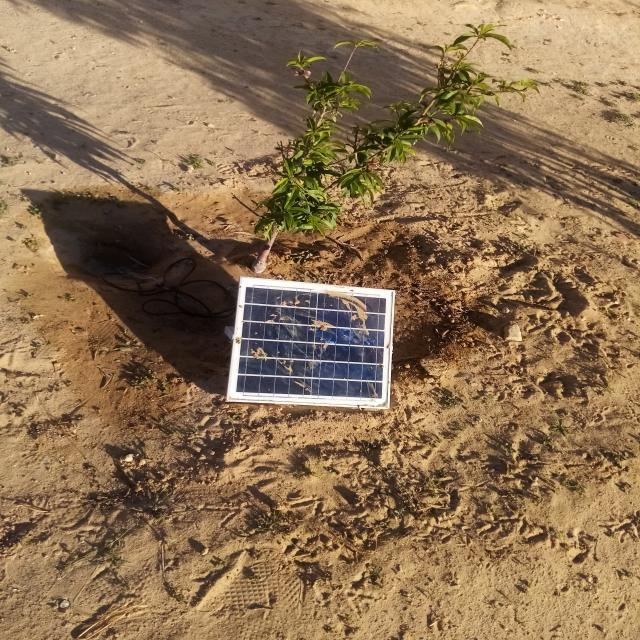faulty: (228, 277, 394, 408)
